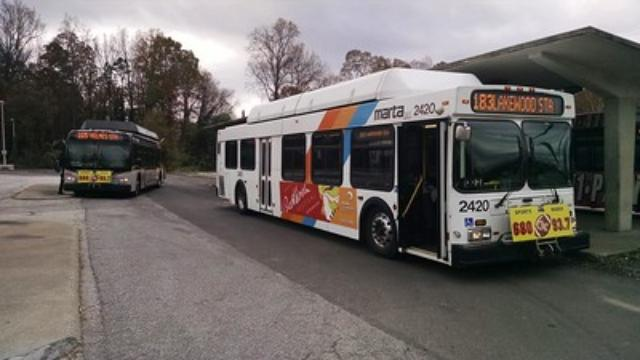bus: (214, 66, 589, 269), (58, 118, 165, 195)
